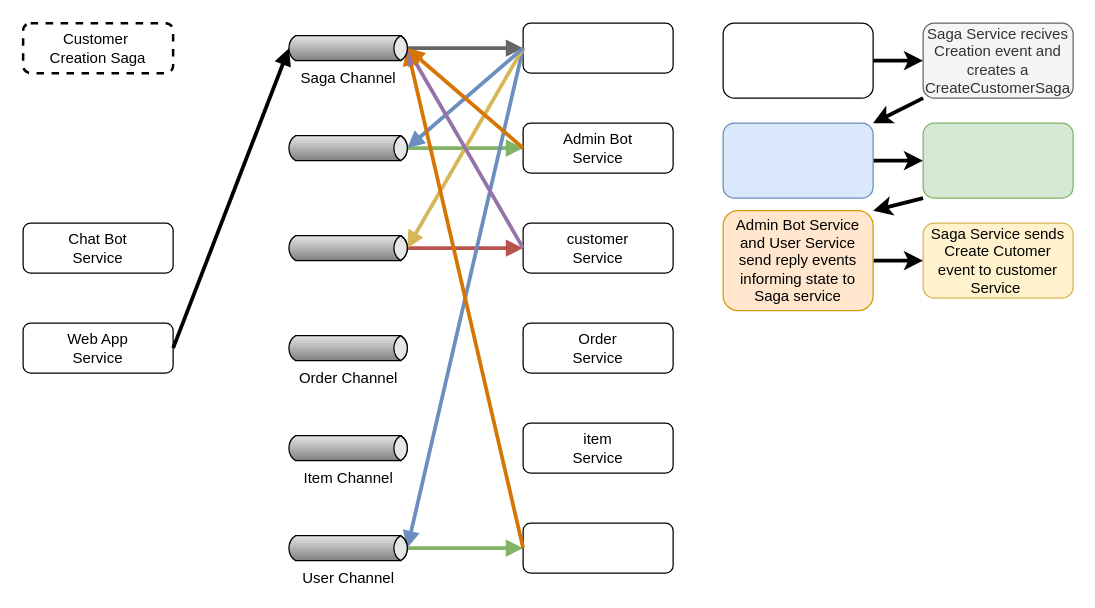
Some shapes in this 1095 by 608 pixel diagram are drawn without their labels. The shapes that lost their labels are listed below. From the top down, each one's centre as x and y in pixels, then its label:
At [597,47]: "Saga Service".
At [797,60]: "Web App sends customer Creation Saga event.".
At [347,147]: "Admin BotChannel".
At [797,160]: "Saga Service sends Connect Discord Account event and Create User event".
At [997,160]: "Admin Bot Service recives the event and and begins the connection proccess".
At [347,247]: "Customer Channel".
At [597,547]: "User Service".
